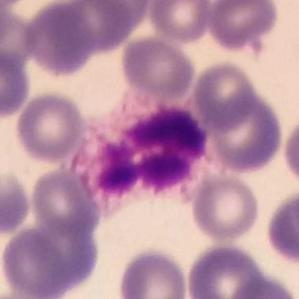Neutrophil: (63, 90, 219, 212)
RBC: (205, 86, 286, 175), (21, 0, 97, 78), (118, 34, 198, 104), (13, 89, 87, 164), (28, 166, 102, 237), (189, 172, 262, 243), (184, 240, 270, 299), (191, 58, 258, 130), (52, 0, 136, 54), (32, 218, 98, 284), (115, 245, 190, 299), (5, 232, 65, 299), (205, 0, 281, 50), (263, 187, 299, 268), (146, 0, 213, 43), (0, 47, 33, 121), (0, 168, 34, 237), (1, 3, 33, 67), (82, 0, 152, 29), (227, 274, 299, 299), (280, 112, 299, 190), (0, 0, 14, 51)
